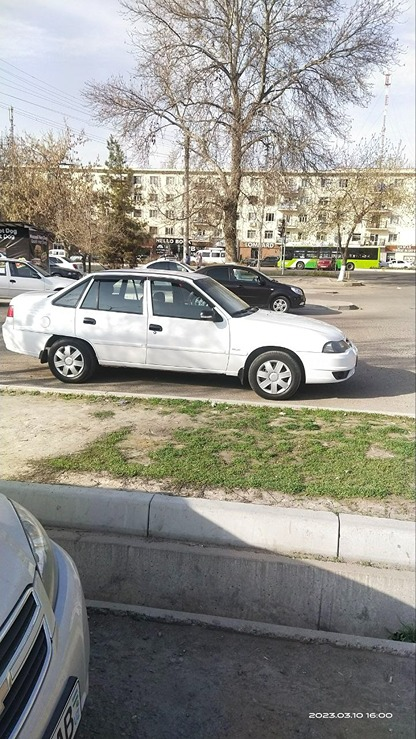car: (9, 245, 370, 414), (229, 267, 329, 312)
tree: (81, 3, 412, 246)
